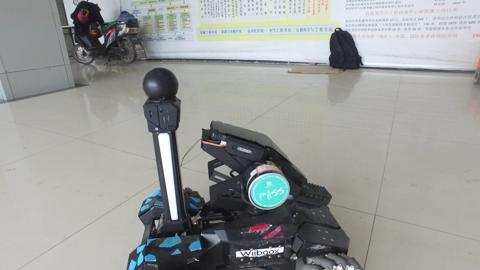bag: (329, 26, 362, 65)
chariot: (123, 84, 363, 270)
